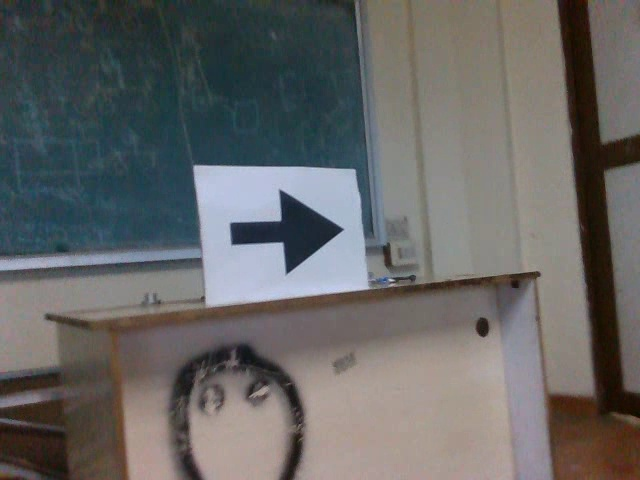Right: (223, 182, 346, 277)
